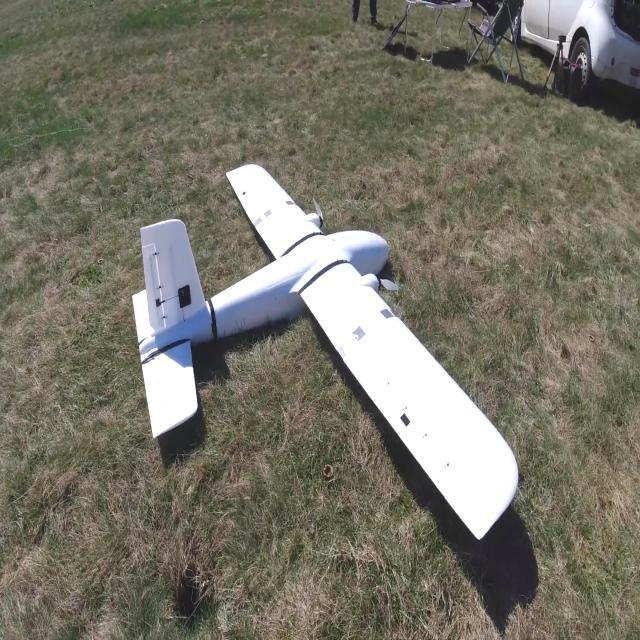iha: (113, 150, 527, 554)
